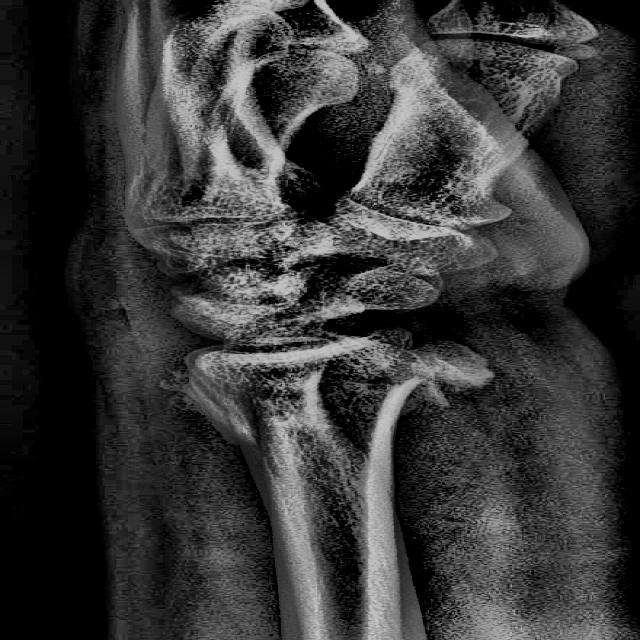line: (320, 341, 425, 453), (180, 375, 281, 446)
